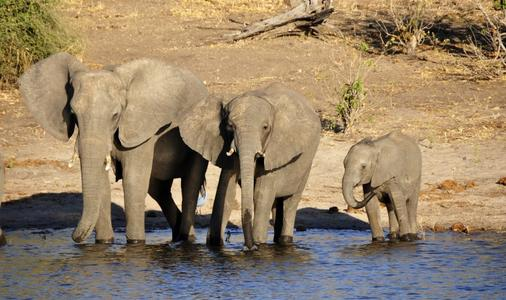elephant: (20, 52, 210, 247), (183, 82, 322, 248), (342, 132, 424, 244)
